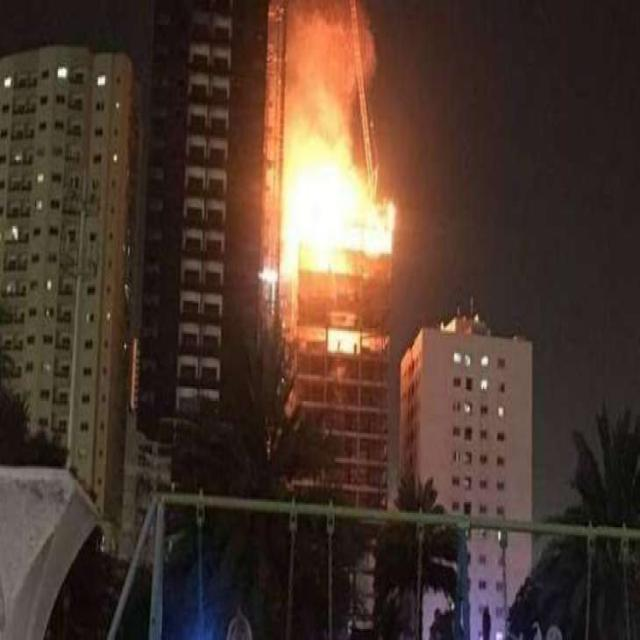fire: (288, 148, 390, 258)
smoke: (290, 10, 360, 94)
